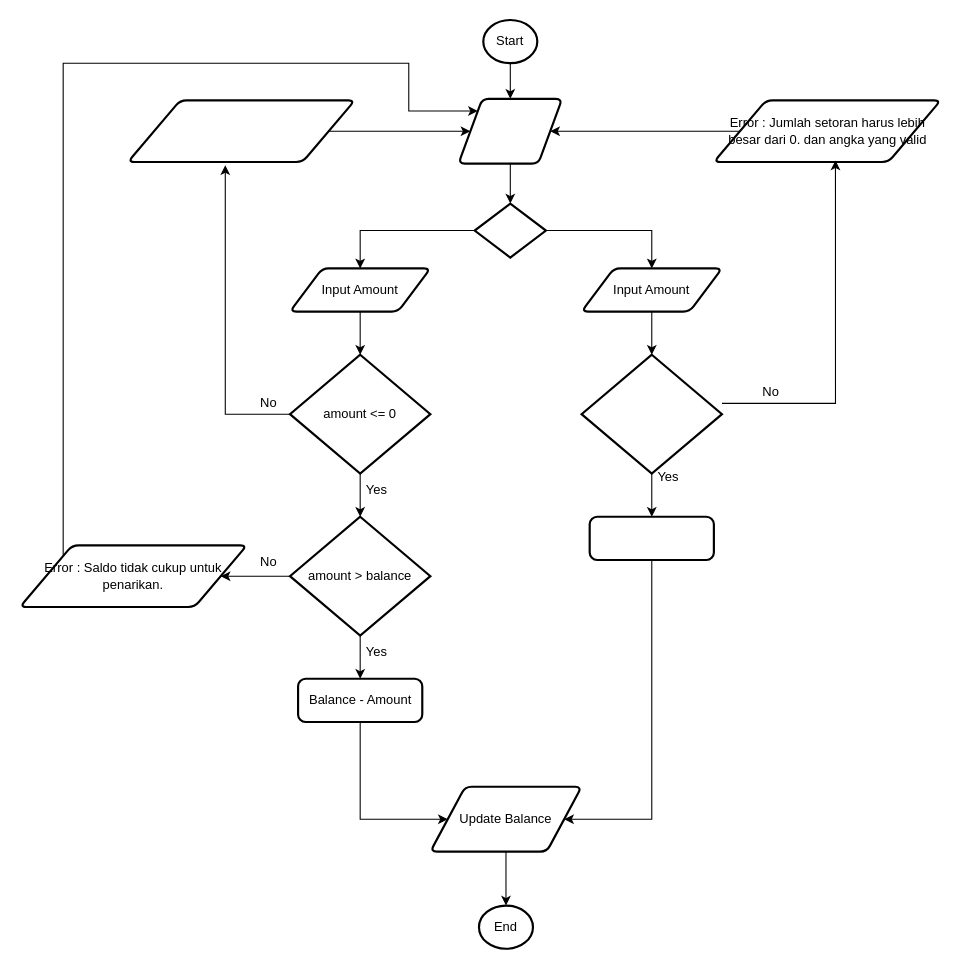
This 960x968 diagram has some shape labels left out. The centre of each missing label's shape, as x and y in pixels:
"Amount > 0 and amount is valid number" goes at (651,413).
"Balance + Amount" goes at (651,538).
"Deposit" goes at (509,230).
"Deposit or Withdraw" goes at (510,130).
"Error : Jumlah setoran harus lebih besar dari 0." goes at (240,131).
